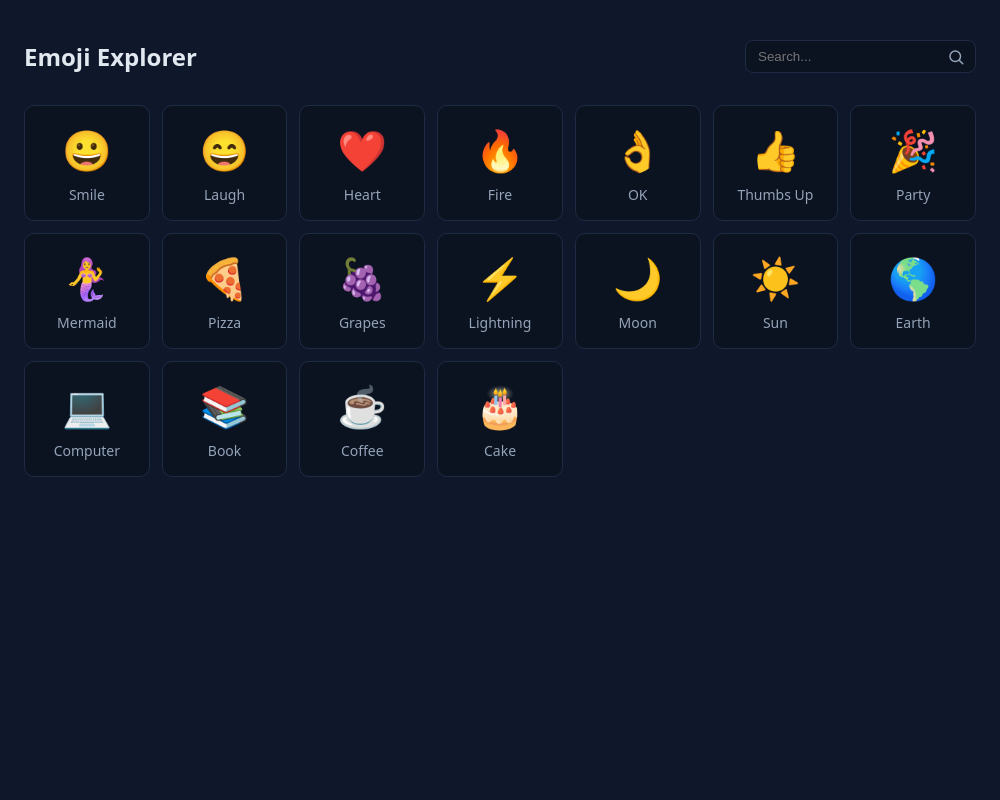
it: Emoji Dialog - Navigation and Interactions › navigates using Previous/Next buttons and respects disabled states at boundaries
The width and height of the screenshot is (1000, 800).
Check: the table named "emojis" is shown, box x1=24 y1=105 x2=976 y2=477
Click the cell "😀 Smile" at (87, 163), box x1=24 y1=105 x2=150 y2=221
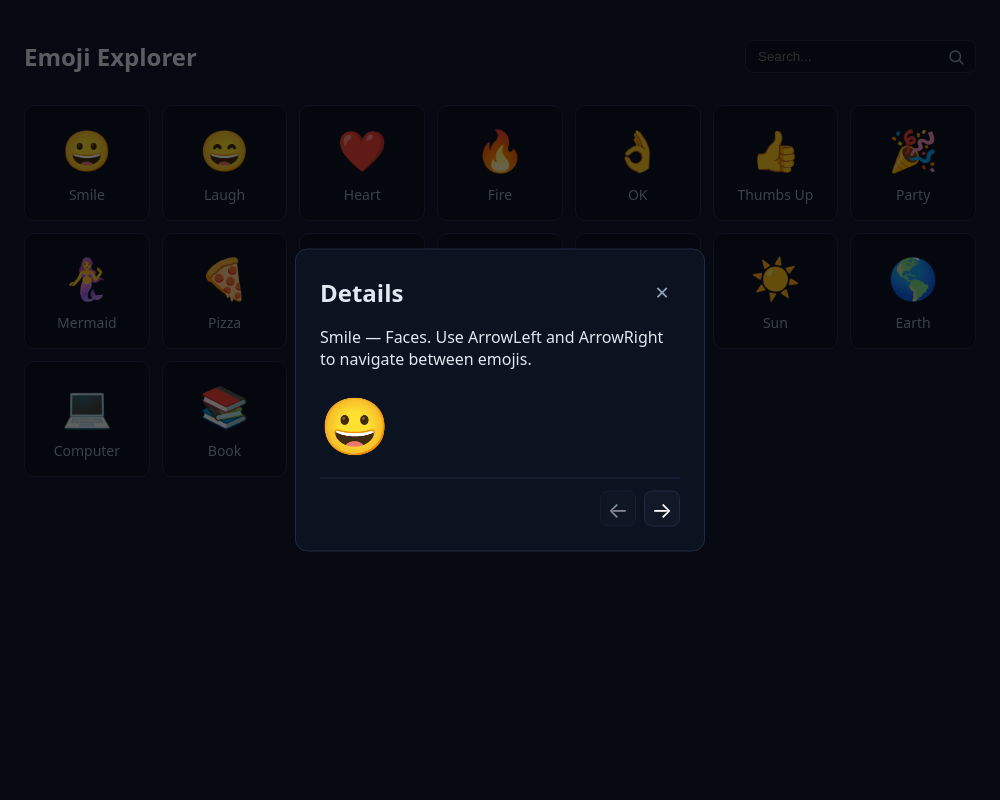
Check: the button "next emoji" is enabled
Check: the dialog "Details" is shown, box x1=295 y1=249 x2=705 y2=552
Check: the button named "previous emoji" is disabled, box x1=600 y1=491 x2=636 y2=527
Click the button named "next emoji" at (662, 509), box x1=644 y1=491 x2=680 y2=527
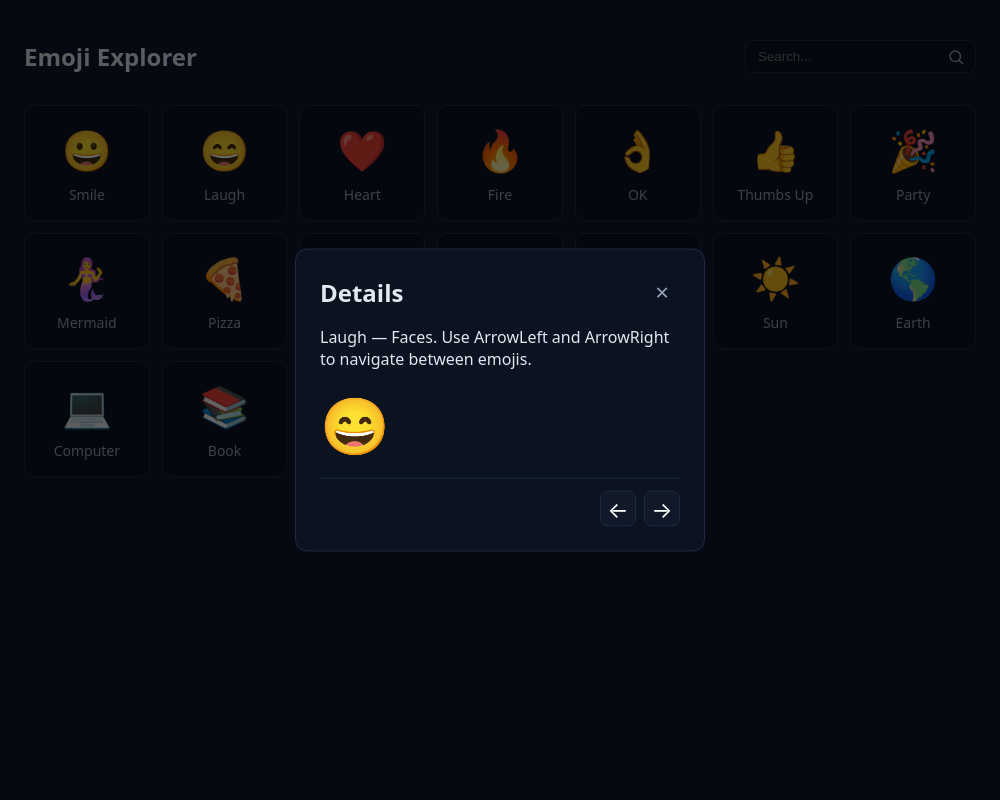
Check: the text "smile" is not shown
Check: the text "Laugh" is shown, box x1=320 y1=326 x2=680 y2=370
Click the button named "previous emoji" at (618, 509), box x1=600 y1=491 x2=636 y2=527
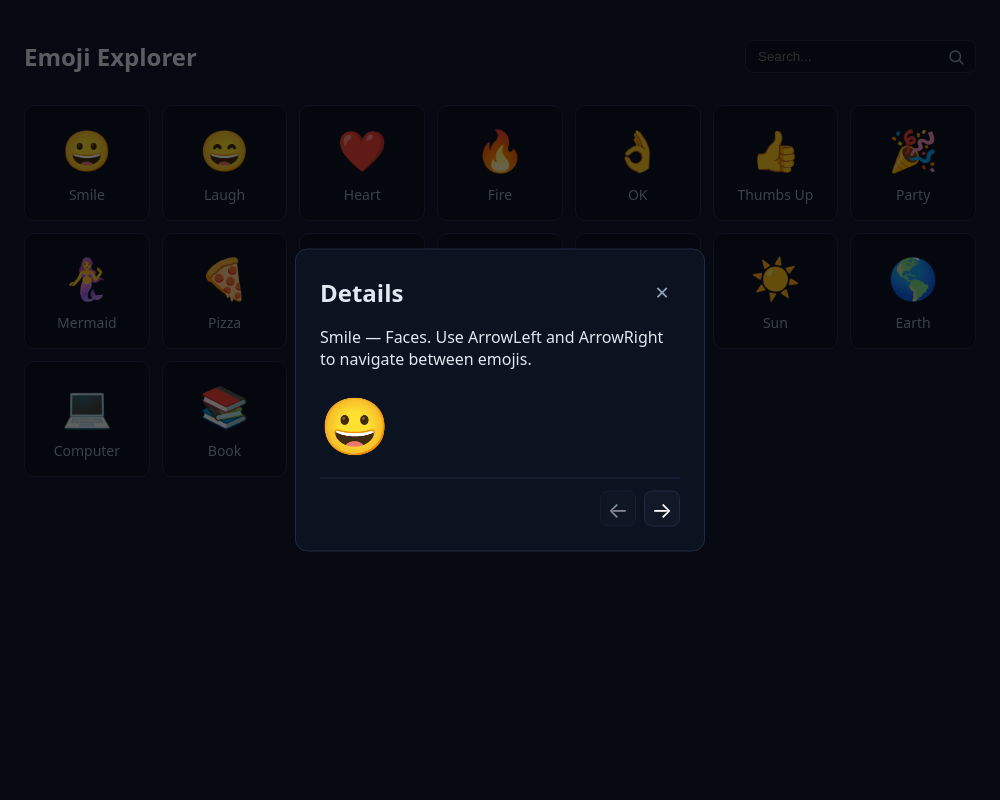
Check: the text "Smile" is shown, box x1=320 y1=326 x2=680 y2=370
Click the button named "close dialog" at (662, 292), box x1=644 y1=274 x2=680 y2=310
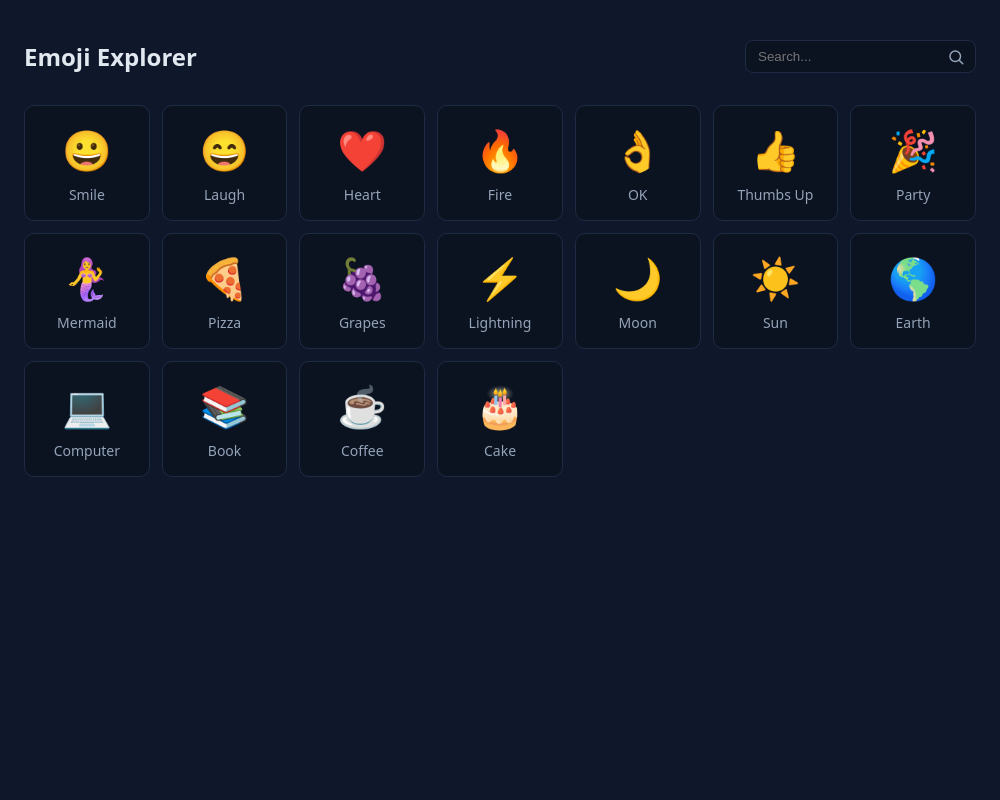
Check: the heading "Details" is gone
Press End Enter in the cell "😀 Smile", box x1=24 y1=105 x2=150 y2=221
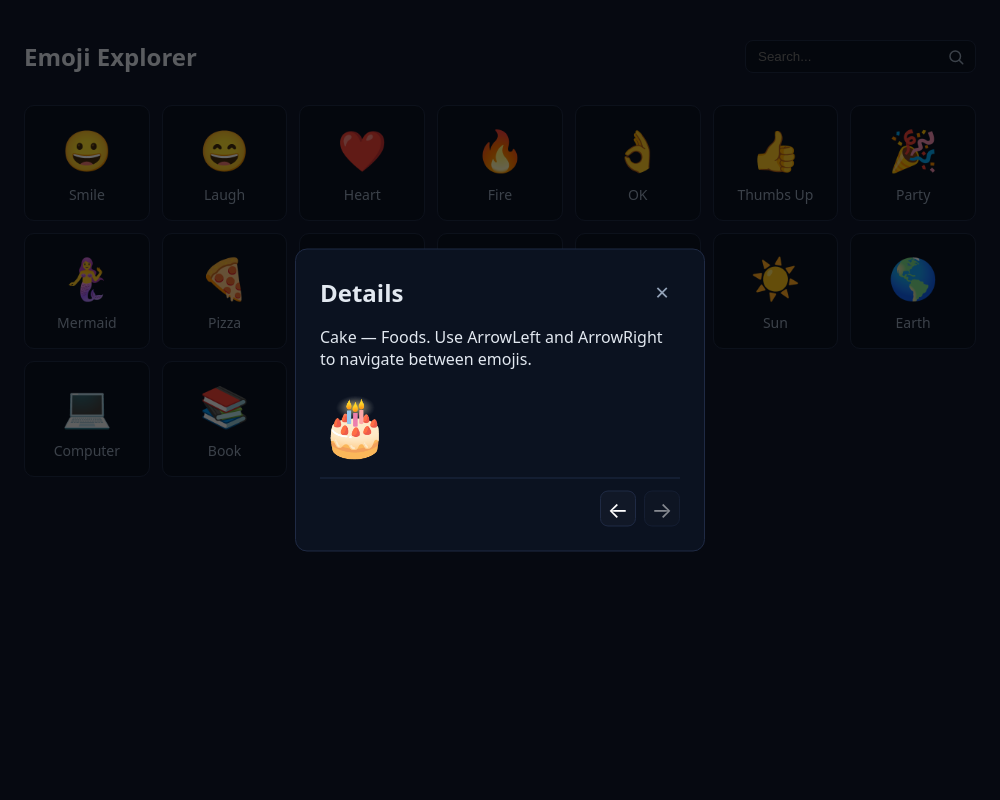
Check: the button "previous emoji" is enabled
Check: the dialog "Details" is shown, box x1=295 y1=249 x2=705 y2=552
Check: the button named "next emoji" is disabled, box x1=644 y1=491 x2=680 y2=527
